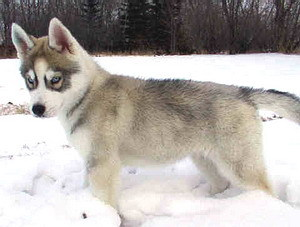dog: (1, 10, 299, 226)
